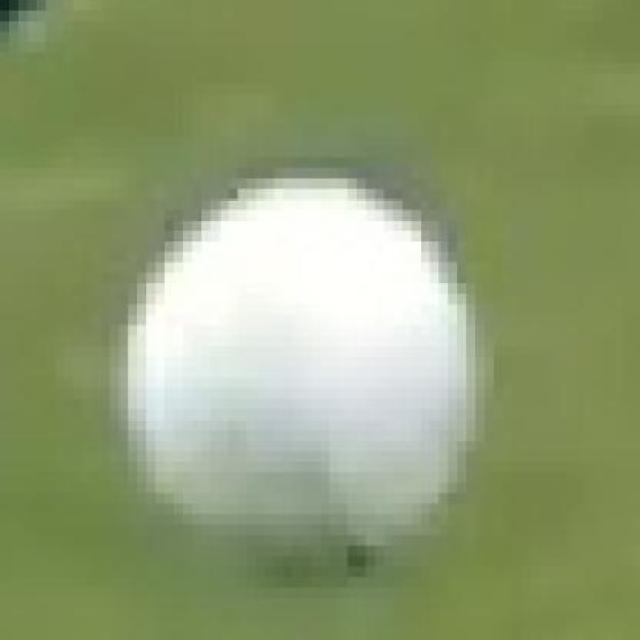Cricket ball: (121, 173, 501, 595)
